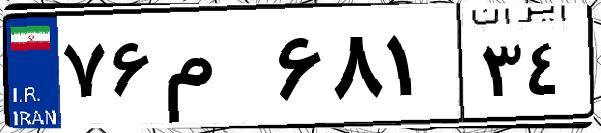1: (385, 28, 445, 110)
3: (475, 38, 525, 113)
4: (525, 38, 570, 115)
6: (270, 28, 330, 110), (110, 28, 158, 98)
7: (57, 26, 110, 100)
8: (330, 28, 385, 110)
م: (158, 20, 270, 120)
